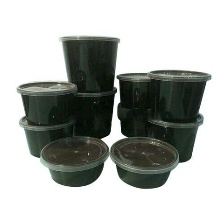plastic_box: (53, 29, 124, 96), (35, 131, 113, 191), (104, 133, 183, 192), (143, 64, 214, 124), (12, 75, 81, 129), (144, 107, 206, 166), (64, 80, 119, 141), (14, 110, 80, 160), (113, 99, 169, 139), (114, 68, 166, 103)
